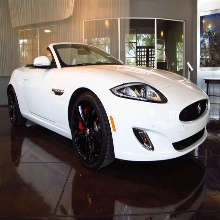no damage: (7, 42, 211, 171)
